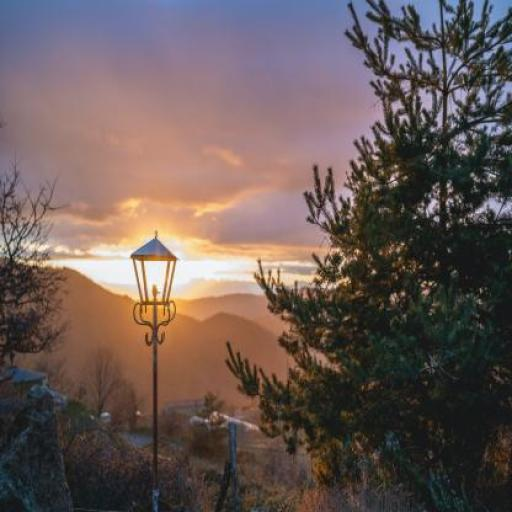street light: (130, 231, 181, 511)
